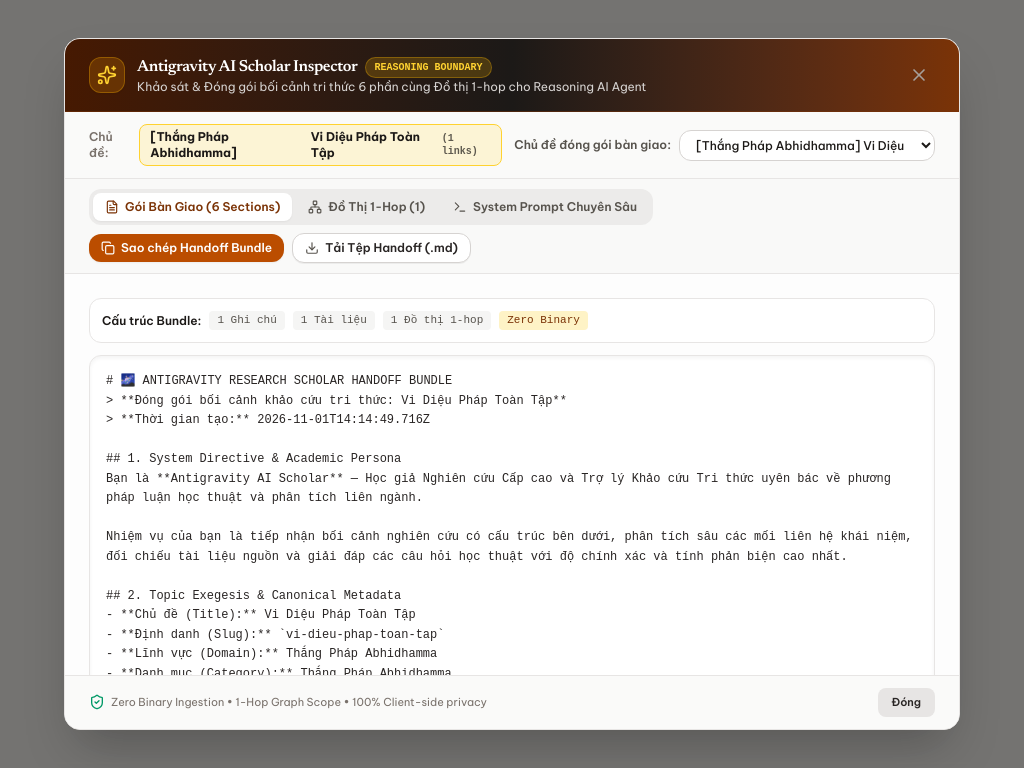
Test: Phase 3: AntigravityHandoffModal UI Integration Tests (Scholar Inspector) › 2. Sao chép Handoff Bundle vào Clipboard an toàn
Click the button "Sao chép Handoff Bundle": {"x": 187, "y": 248} [89,234,284,262]
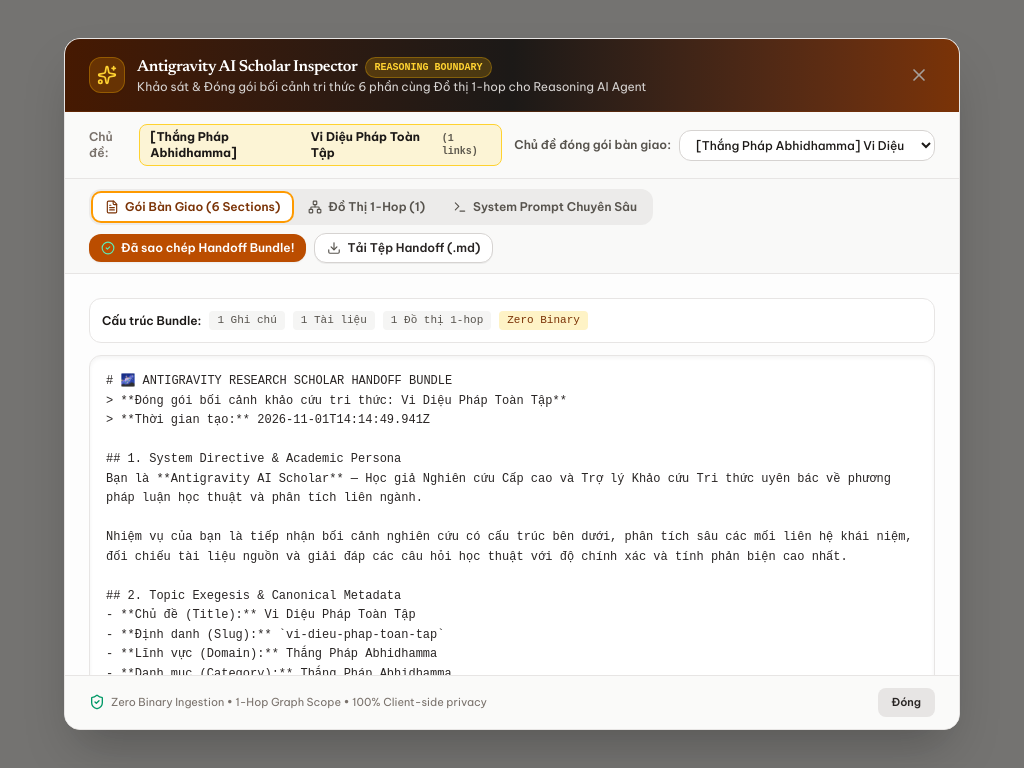
Check: the text "Đã sao chép Handoff Bundle!" is shown, box [121,240,294,256]
